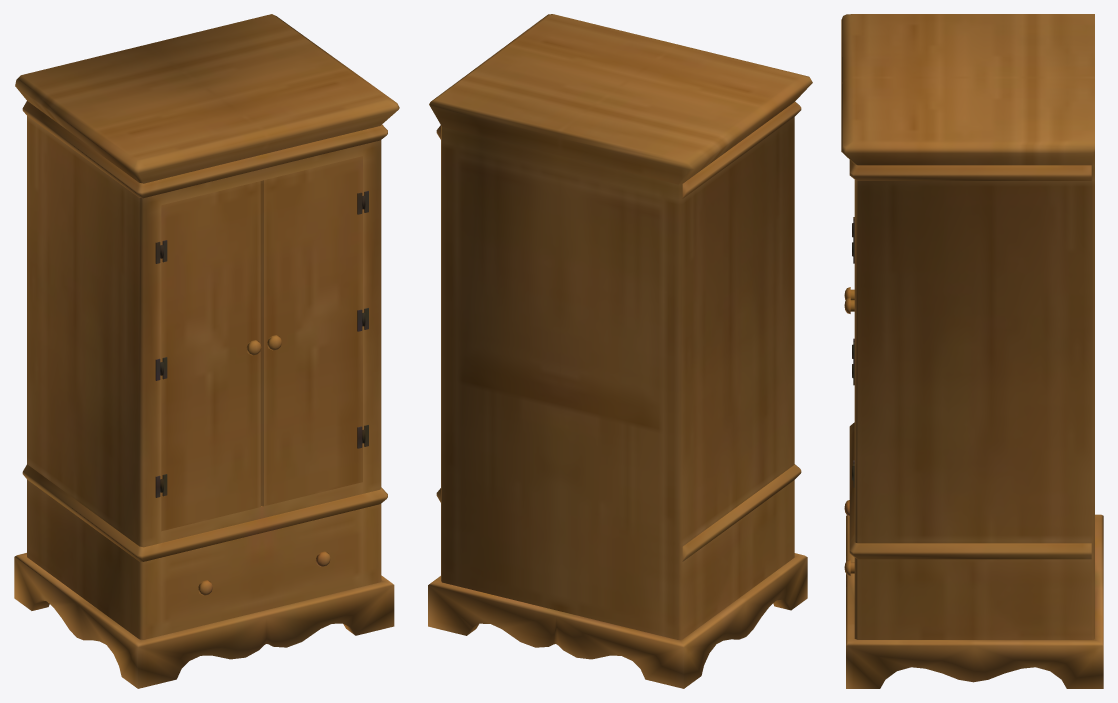
3 renders of one model, left to right at view 1: azimuth 30°, elevation 25°; view 2: azimuth 150°, elevation 25°; view 3: azimuth 270°, elevation 25°, orthographic. The views are drawn at different scales.
Size of the model in its own units: 9.89 by 18.66 by 8.12.
Materials: 1 (1 with a texture image).
